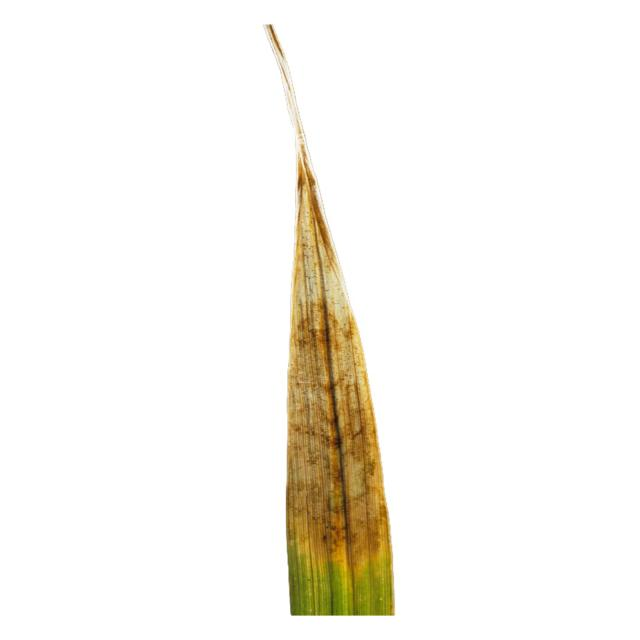Leaf scald: (223, 0, 484, 640)
